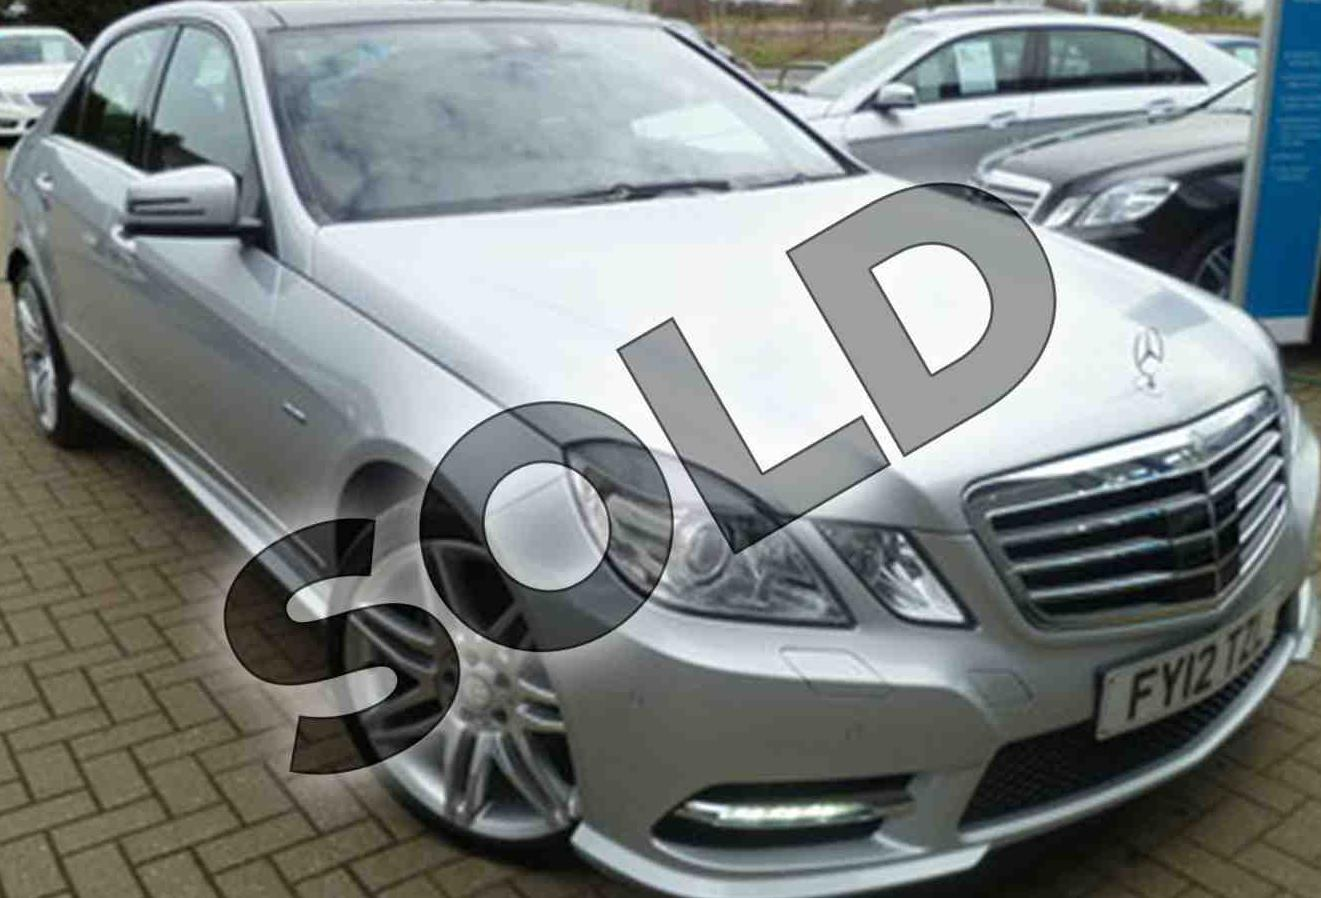front_view: (551, 363, 1321, 843)
headlight: (567, 447, 866, 636)
side_glass: (84, 24, 287, 249)
